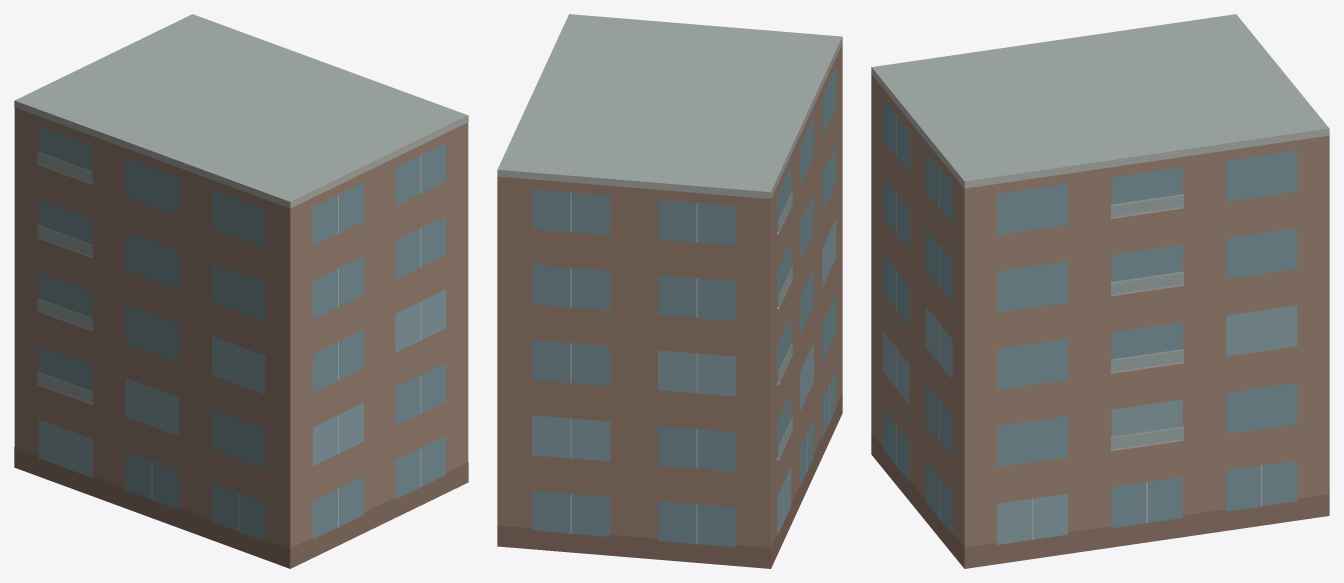
File: survey-upis-32707939.glb
3 views of the same model, side by side, from view 1: azimuth 30°, elevation 25°; view 2: azimuth 150°, elevation 25°; view 3: azimuth 270°, elevation 25° (orthographic). The views are drawn at different scales.
Parts seen in each view (by area): view 1: survey-upis-32707939.tmp; view 2: survey-upis-32707939.tmp; view 3: survey-upis-32707939.tmp.
Boxes of the visible parts, x1=… form: survey-upis-32707939.tmp: x1=14, y1=14, x2=468, y2=568; survey-upis-32707939.tmp: x1=497, y1=14, x2=842, y2=568; survey-upis-32707939.tmp: x1=871, y1=14, x2=1329, y2=568.
Size of the model in its own units: 12.4 by 13.35 by 14.32.
